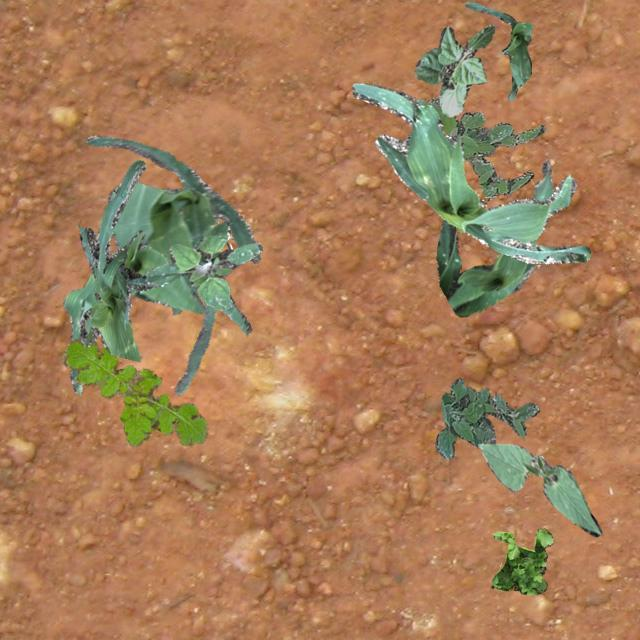crop: (85, 134, 259, 394), (352, 81, 590, 262), (62, 230, 250, 394), (436, 157, 552, 316), (77, 158, 152, 360), (478, 442, 600, 536), (414, 24, 494, 116), (464, 0, 532, 100)
weed: (61, 336, 208, 446), (426, 96, 544, 198), (144, 220, 262, 310), (434, 377, 538, 458), (490, 528, 552, 594)
